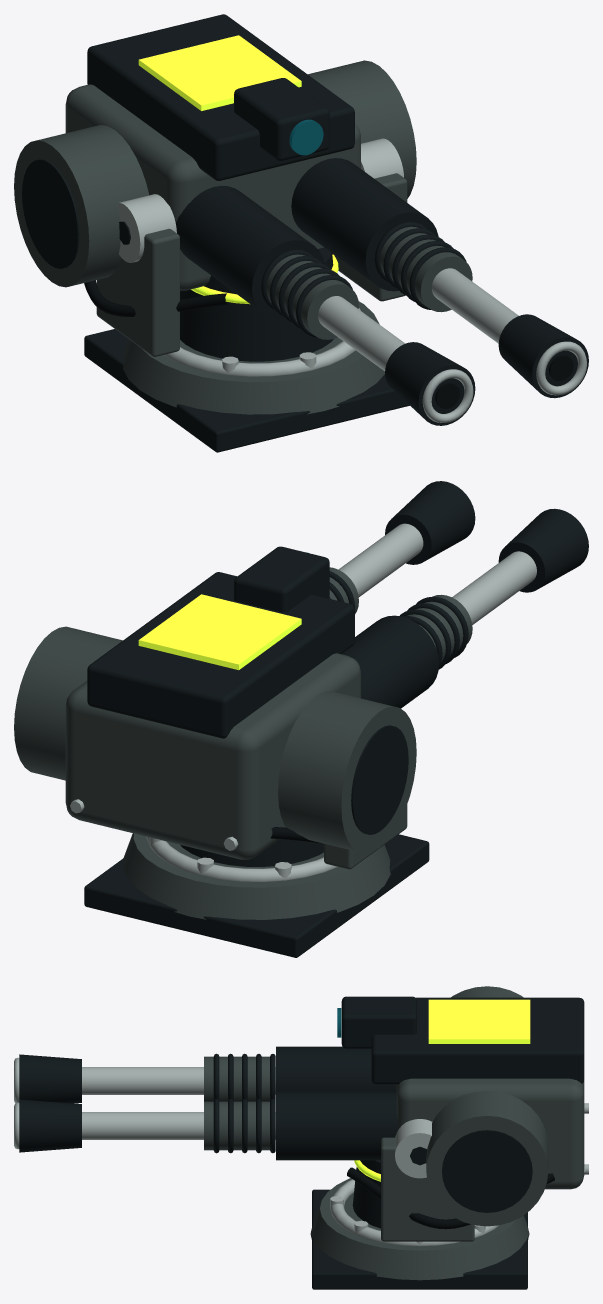
The model's file is twin-repeater.glb.
3 views of the same model, one above another, from view 1: azimuth 30°, elevation 25°; view 2: azimuth 150°, elevation 25°; view 3: azimuth 270°, elevation 25° (orthographic). The views are drawn at different scales.
Parts seen in each view (by area): view 1: receivers__Recessed_carbon_mechanism, ammunition-drums__Cerakote_graphite_armor, receiver__Recessed_carbon_mechanism, mount__Cerakote_graphite_armor, receiver__Cerakote_graphite_armor, cradle__Cerakote_graphite_armor, mount__Recessed_carbon_mechanism, muzzle-brakes__Recessed_carbon_mechanism, yaw-drive__Recessed_carbon_mechanism, identification__Velocity_chartreuse_identification, twin-barrels__Machined_titanium, thermal-sleeves__Cerakote_graphite_armor (+9 smaller); view 2: receiver__Cerakote_graphite_armor, ammunition-drums__Cerakote_graphite_armor, receiver__Recessed_carbon_mechanism, mount__Cerakote_graphite_armor, mount__Recessed_carbon_mechanism, muzzle-brakes__Recessed_carbon_mechanism, identification__Velocity_chartreuse_identification, receivers__Recessed_carbon_mechanism, twin-barrels__Machined_titanium, ammunition-drums__Recessed_carbon_mechanism, sensor__Recessed_carbon_mechanism, mount__Machined_titanium (+4 smaller); view 3: receivers__Recessed_carbon_mechanism, receiver__Recessed_carbon_mechanism, ammunition-drums__Cerakote_graphite_armor, receiver__Cerakote_graphite_armor, mount__Cerakote_graphite_armor, twin-barrels__Machined_titanium, ammunition-drums__Recessed_carbon_mechanism, muzzle-brakes__Recessed_carbon_mechanism, mount__Recessed_carbon_mechanism, cradle__Cerakote_graphite_armor, identification__Velocity_chartreuse_identification, thermal-sleeves__Cerakote_graphite_armor (+7 smaller).
Boxes of the visible parts, x1,y1,x2,y2 form: receivers__Recessed_carbon_mechanism: (175,158,438,318); ammunition-drums__Cerakote_graphite_armor: (14,60,416,287); receiver__Recessed_carbon_mechanism: (87,14,354,180); mount__Cerakote_graphite_armor: (123,301,384,414); receiver__Cerakote_graphite_armor: (65,84,360,290); cradle__Cerakote_graphite_armor: (96,173,407,356); mount__Recessed_carbon_mechanism: (84,329,409,452); muzzle-brakes__Recessed_carbon_mechanism: (385,314,588,425); yaw-drive__Recessed_carbon_mechanism: (180,247,333,361); identification__Velocity_chartreuse_identification: (138,35,301,110); twin-barrels__Machined_titanium: (318,268,518,371); thermal-sleeves__Cerakote_graphite_armor: (266,226,472,339); receiver__Cerakote_graphite_armor: (65,653,360,859); ammunition-drums__Cerakote_graphite_armor: (14,626,416,853); receiver__Recessed_carbon_mechanism: (87,572,354,738); mount__Cerakote_graphite_armor: (123,833,390,919); mount__Recessed_carbon_mechanism: (84,834,429,957); muzzle-brakes__Recessed_carbon_mechanism: (385,481,588,592); identification__Velocity_chartreuse_identification: (138,594,301,670); receivers__Recessed_carbon_mechanism: (341,615,438,708); twin-barrels__Machined_titanium: (338,523,536,624); ammunition-drums__Recessed_carbon_mechanism: (351,725,408,834); sensor__Recessed_carbon_mechanism: (234,546,329,612); mount__Machined_titanium: (146,836,337,881); receivers__Recessed_carbon_mechanism: (276,1046,399,1160); receiver__Recessed_carbon_mechanism: (371,997,584,1084); ammunition-drums__Cerakote_graphite_armor: (426,986,548,1226); receiver__Cerakote_graphite_armor: (396,1078,584,1189); mount__Cerakote_graphite_armor: (310,1178,529,1280); twin-barrels__Machined_titanium: (82,1067,275,1139); ammunition-drums__Recessed_carbon_mechanism: (442,1130,532,1212); muzzle-brakes__Recessed_carbon_mechanism: (19,1054,81,1152); mount__Recessed_carbon_mechanism: (312,1189,527,1289); cradle__Cerakote_graphite_armor: (381,1137,474,1241); identification__Velocity_chartreuse_identification: (428,999,530,1043); thermal-sleeves__Cerakote_graphite_armor: (204,1056,269,1150).
Bounding box in the file's own units: 1.98 × 1.71 × 3.68.
